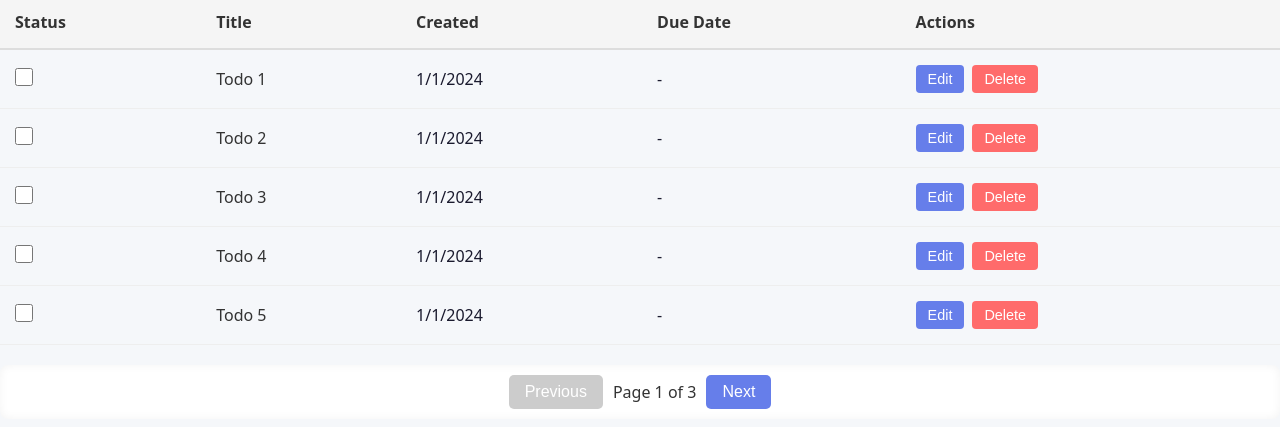
Test: TodosTable › pagination › should navigate to previous page when previous button is clicked
Navigate to page 2
Click the button with aria-label "Next page": (739, 392) x1=706 y1=375 x2=771 y2=409
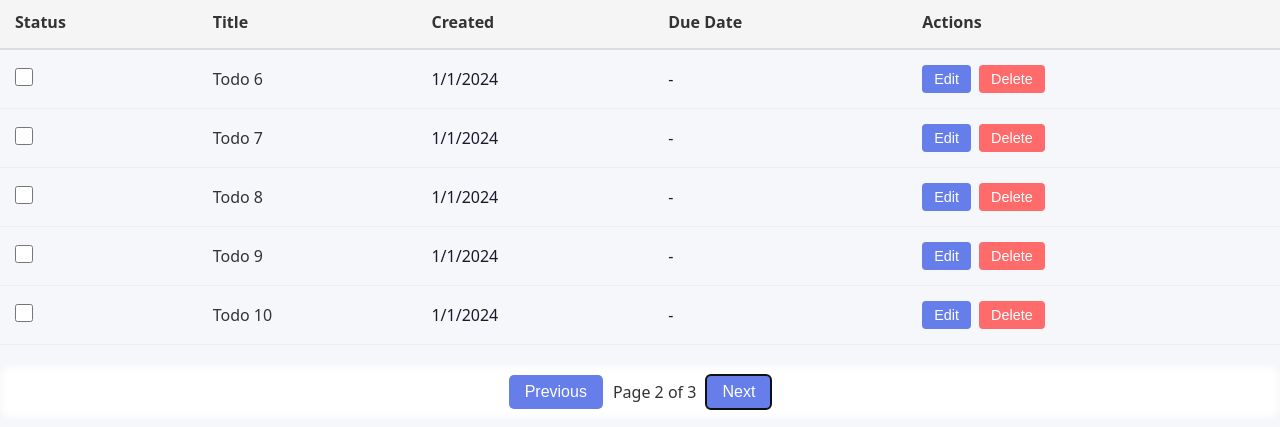
Expected: the text "Page 2 of 3" is shown, x1=613 y1=381 x2=696 y2=403
Click previous button
Click the button with aria-label "Previous page": (556, 392) x1=509 y1=375 x2=603 y2=409
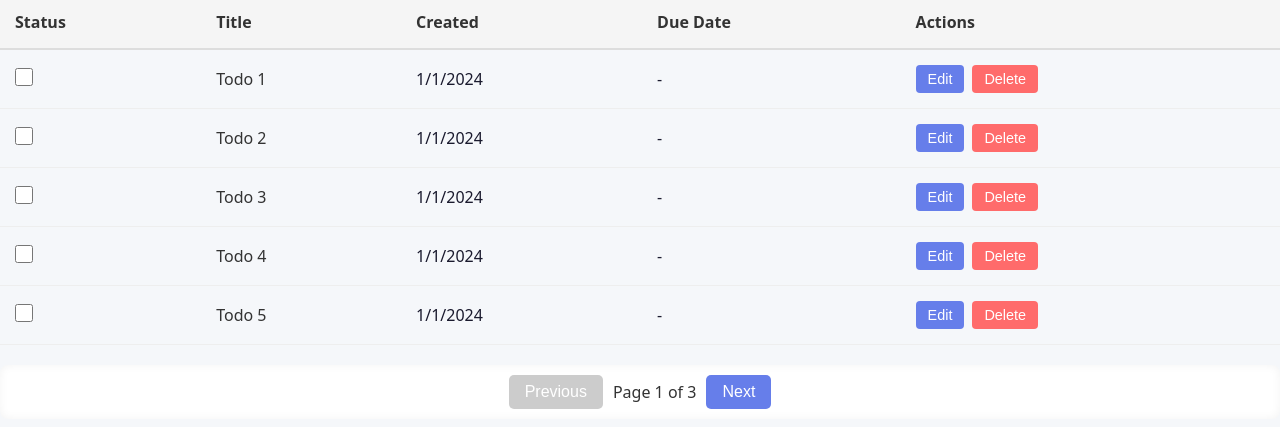
Expected: the text "Page 1 of 3" is shown, x1=613 y1=381 x2=696 y2=403
